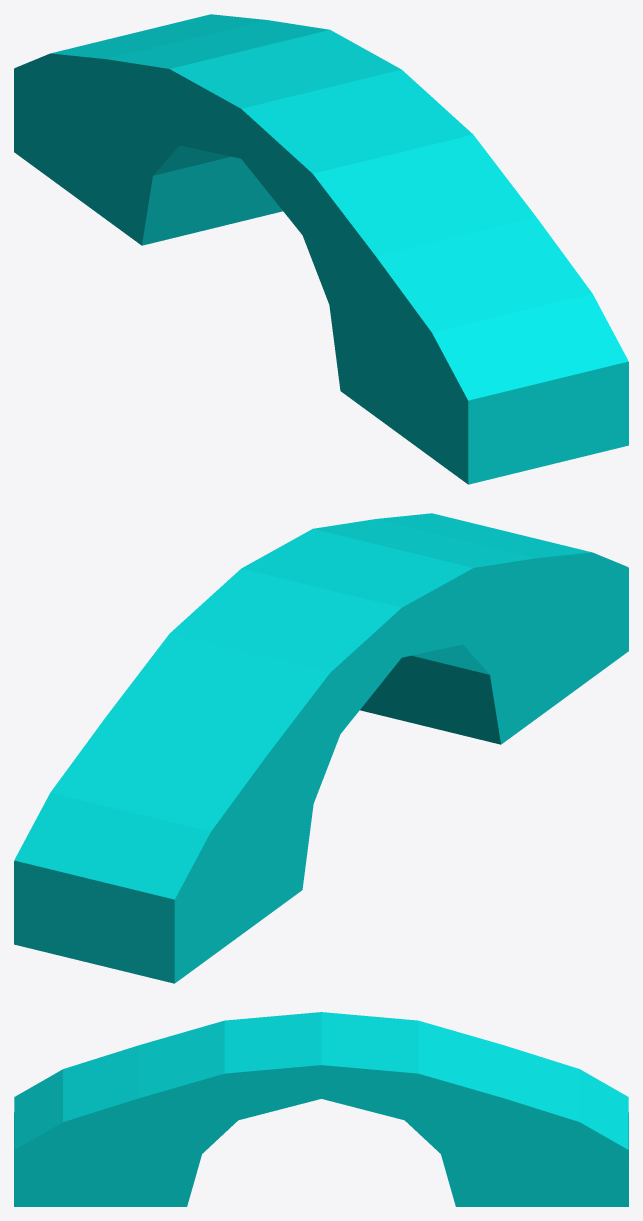
The model's file is SM_Bld_Bridge_02_Collision.fbx.
3 renders of one model, top to bottom at view 1: azimuth 30°, elevation 25°; view 2: azimuth 150°, elevation 25°; view 3: azimuth 270°, elevation 25°, orthographic. The views are drawn at different scales.
Parts seen in each view (by area): view 1: SM_Bld_Bridge_02_Collision; view 2: SM_Bld_Bridge_02_Collision; view 3: SM_Bld_Bridge_02_Collision.
Part boxes in pixels (x1,y1,x2,y2): SM_Bld_Bridge_02_Collision: [14, 14, 628, 484]; SM_Bld_Bridge_02_Collision: [14, 513, 628, 983]; SM_Bld_Bridge_02_Collision: [14, 1012, 628, 1206].
Size of the model in its own units: 263 by 328 by 1290.
